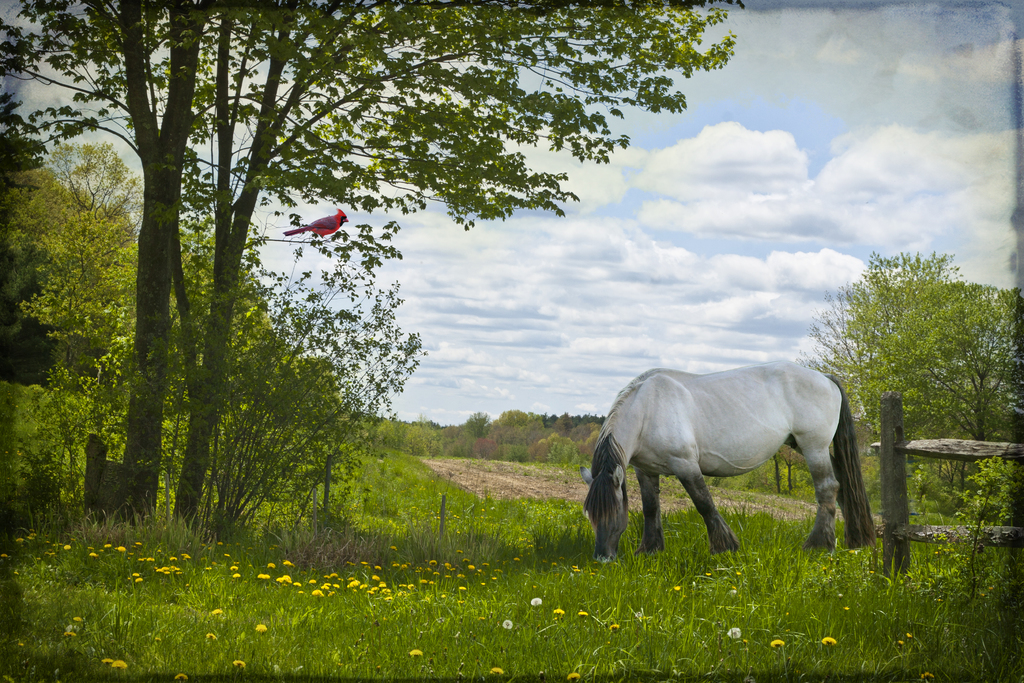horse: (581, 362, 876, 561)
